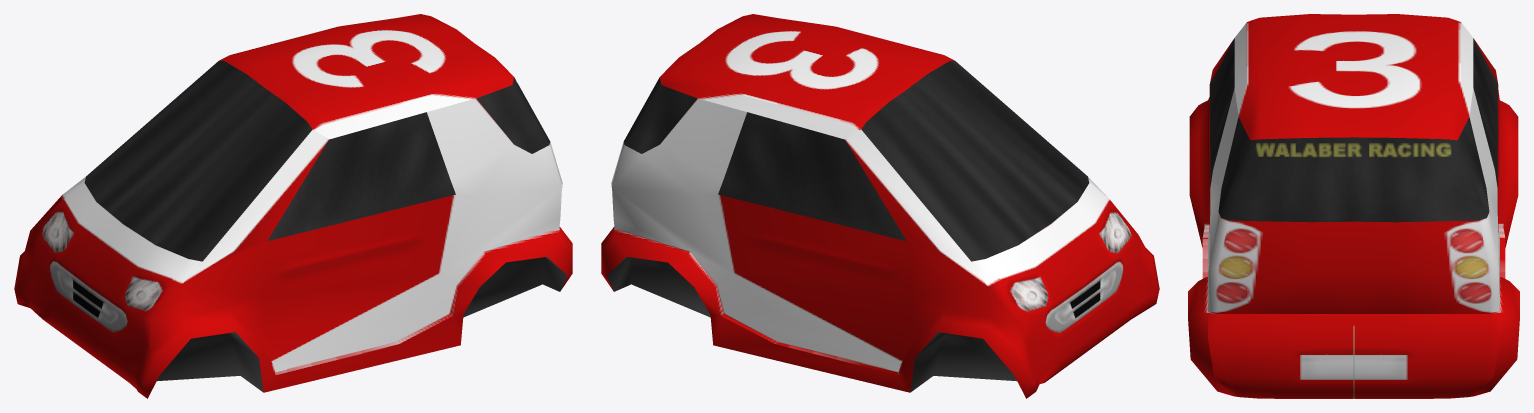
Rendered from smart.glb.
3 renders of one model, left to right at view 1: azimuth 30°, elevation 25°; view 2: azimuth 150°, elevation 25°; view 3: azimuth 270°, elevation 25°, orthographic. The views are drawn at different scales.
Visible parts, largest first — view 1: obj3, obj2, obj0, obj1; view 2: obj3, obj2, obj0, obj1; view 3: obj3, obj0, obj2.
Boxes of the visible parts, bbox=[...] form: obj3: bbox=[14, 14, 572, 398]; obj2: bbox=[84, 60, 550, 261]; obj0: bbox=[62, 95, 562, 372]; obj1: bbox=[157, 257, 567, 392]; obj3: bbox=[601, 14, 1159, 398]; obj2: bbox=[623, 60, 1089, 261]; obj0: bbox=[611, 95, 1109, 372]; obj1: bbox=[606, 257, 1016, 392]; obj3: bbox=[1188, 14, 1519, 398]; obj0: bbox=[1208, 22, 1499, 313]; obj2: bbox=[1209, 38, 1498, 222].
Size of what is drawn, in the model's own units: 2.43 by 1.31 by 1.41.
Materials: 4 (4 with a texture image).
